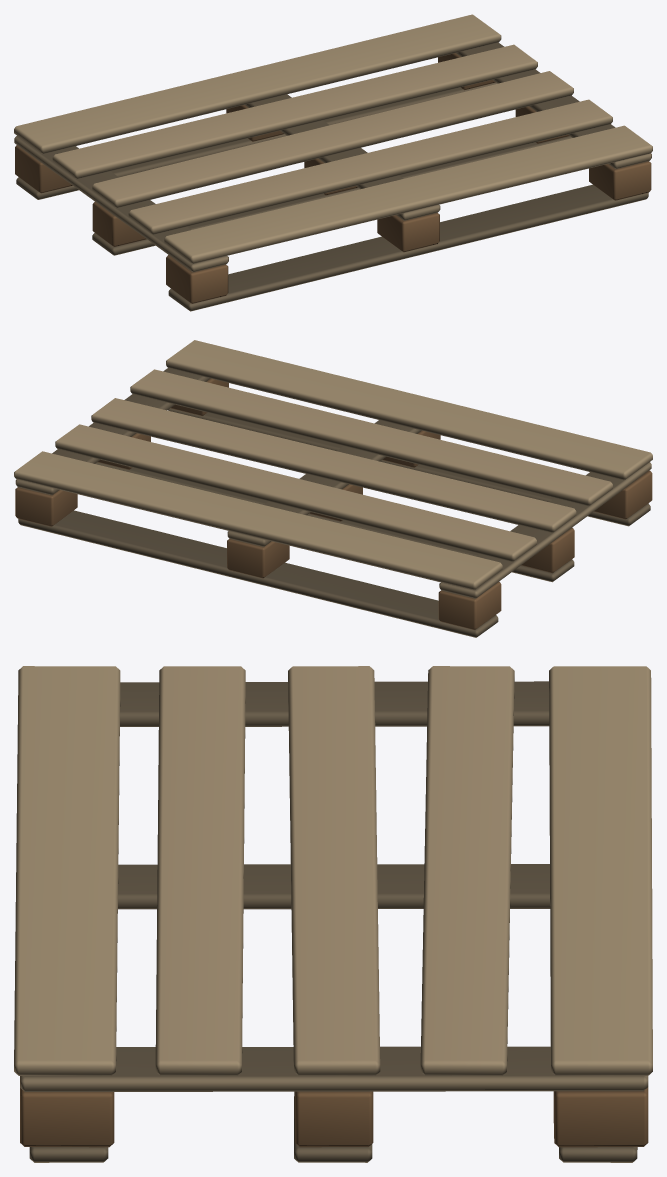
Rendered from Pallet.fbx.
3 views of the same model, one above another, from view 1: azimuth 30°, elevation 25°; view 2: azimuth 150°, elevation 25°; view 3: azimuth 270°, elevation 25° (orthographic). The views are drawn at different scales.
Visible parts, largest first — view 1: Pallet; view 2: Pallet; view 3: Pallet.
Part boxes in pixels (x1,y1,x2,y2): Pallet: (14,14,652,311); Pallet: (14,340,652,637); Pallet: (14,666,652,1162).
Bounding box in the file's own units: 1.2 × 0.144 × 0.814.
